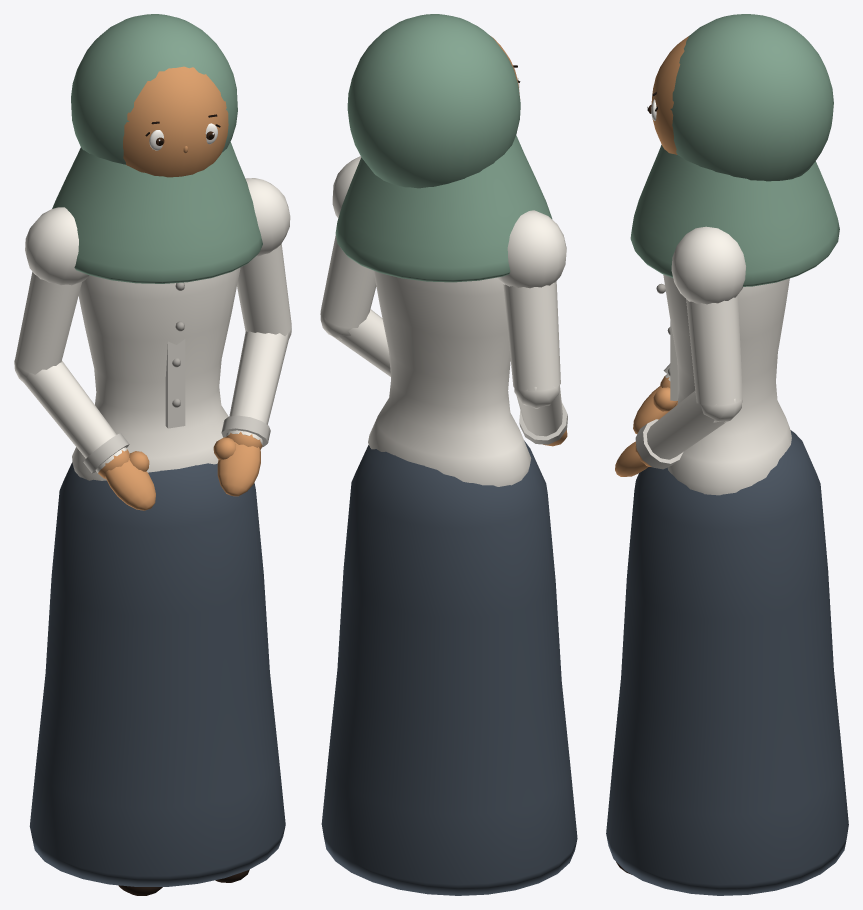
The model's file is 16-nuri.glb.
The picture shows the model from 3 angles, left to right: view 1: azimuth 30°, elevation 25°; view 2: azimuth 150°, elevation 25°; view 3: azimuth 270°, elevation 25°; orthographic projection. The views are drawn at different scales.
Parts seen in each view (by area): view 1: Nuri, skull, elbow (×2), armR, armL; view 2: Nuri, skull, armR, elbow (×2), armL; view 3: Nuri, skull, armL, elbow (×2).
Boxes of the visible parts, <box> form: Nuri: <box>29,268,285,895</box>; skull: <box>52,14,262,283</box>; elbow (×2): <box>14,326,291,510</box>; armR: <box>14,207,89,374</box>; armL: <box>237,178,291,335</box>; Nuri: <box>321,271,577,895</box>; skull: <box>335,14,552,282</box>; armR: <box>497,210,566,390</box>; elbow (×2): <box>320,309,567,446</box>; armL: <box>320,156,376,327</box>; Nuri: <box>606,274,848,895</box>; skull: <box>630,14,839,286</box>; armL: <box>671,226,745,405</box>; elbow (×2): <box>615,363,742,476</box>.
Size of the model in its own units: 0.408 by 1.29 by 0.3365.
